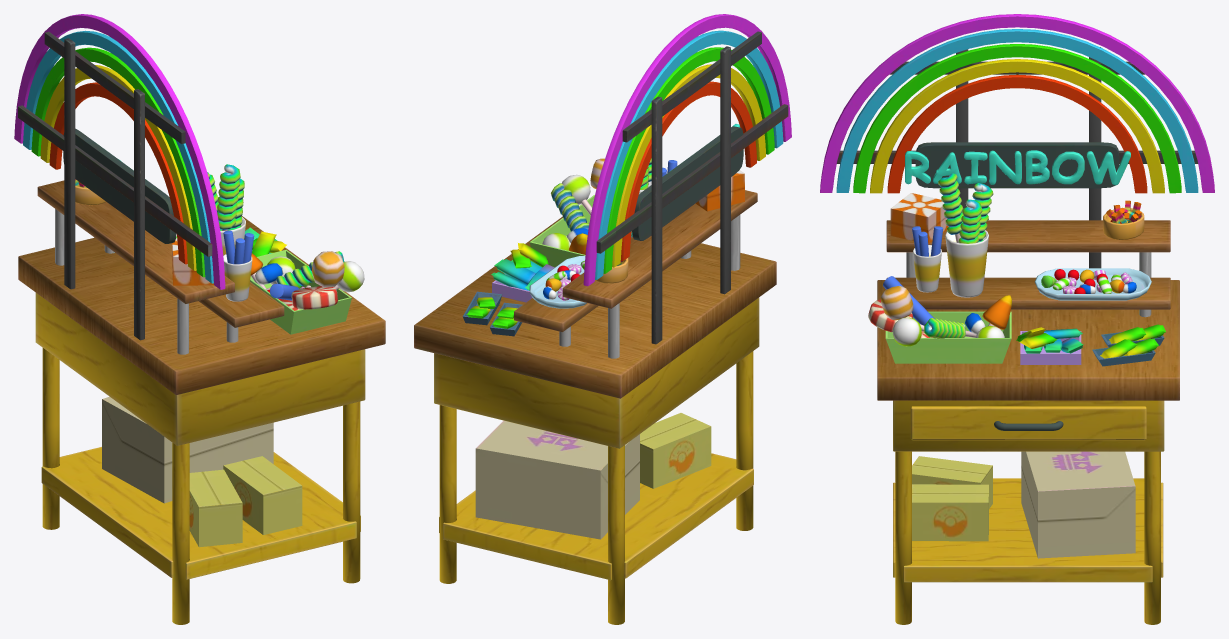
File: CandyStall.glb
3 renders of one model, left to right at view 1: azimuth 30°, elevation 25°; view 2: azimuth 150°, elevation 25°; view 3: azimuth 270°, elevation 25°, orthographic. The views are drawn at different scales.
Parts seen in each view (by area): view 1: Cube.099, Cube.101, Circle.001, Cube.102, Cube.105, Plane.001, Cube.112, Cube.106, Cube.100, Cube.111, Cube.110, Cube.145 (+9 smaller); view 2: Cube.099, Circle.001, Cube.101, Cube.112, Cube.102, Cube.105, Plane.001, Cube.106, Cube.100, Cube.110, Cube.107, Cube.103 (+6 smaller); view 3: Circle.001, Cube.099, Cube.102, Cube.112, Cube.104, Plane.001, Cube.101, Cube.100, Cube.105, Cube.107, Text.001, Cube.111 (+19 smaller).
Boxes of the visible parts, x1,y1,x2,y2 form: Cube.099: (18, 216, 385, 395); Cube.101: (35, 293, 365, 445); Circle.001: (14, 14, 225, 289); Cube.102: (41, 447, 360, 579); Cube.105: (42, 348, 360, 624); Plane.001: (18, 31, 212, 256); Cube.112: (102, 396, 273, 503); Cube.106: (64, 38, 144, 340); Cube.100: (37, 180, 234, 303); Cube.111: (223, 456, 302, 534); Cube.110: (189, 469, 242, 547); Cube.145: (250, 249, 351, 334); Cube.099: (414, 216, 776, 398); Circle.001: (583, 14, 791, 286); Cube.101: (434, 297, 759, 448); Cube.112: (475, 420, 639, 539); Cube.102: (439, 453, 753, 580); Cube.105: (439, 351, 753, 624); Plane.001: (596, 31, 788, 253); Cube.106: (651, 46, 730, 344); Cube.100: (562, 190, 757, 308); Cube.110: (640, 413, 711, 488); Cube.107: (514, 298, 598, 332); Cube.103: (608, 215, 740, 358); Circle.001: (820, 14, 1214, 193); Cube.099: (877, 280, 1179, 400); Cube.102: (893, 478, 1163, 582); Cube.112: (1021, 451, 1135, 558); Cube.104: (910, 406, 1146, 440); Plane.001: (837, 61, 1197, 188); Cube.101: (893, 400, 1164, 451); Cube.100: (886, 220, 1170, 252); Cube.105: (895, 451, 1160, 624); Cube.107: (886, 277, 1170, 309); Text.001: (905, 150, 1130, 185); Cube.111: (912, 484, 988, 541).
Size of the model in its own units: 1.82 by 4.51 by 3.07.
1 material, 1 textured.
